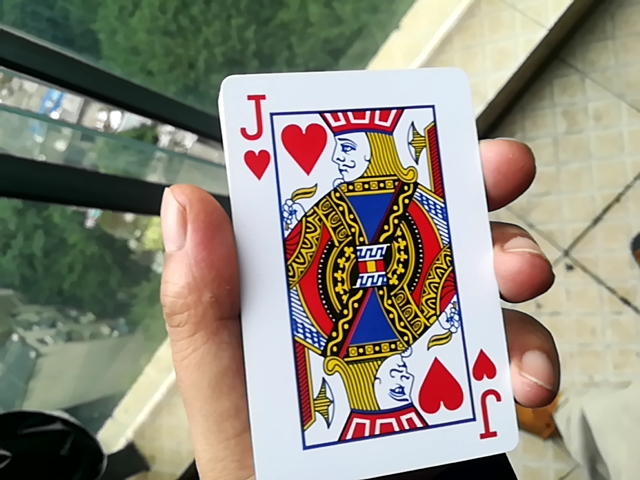hx j: (207, 57, 521, 479)
